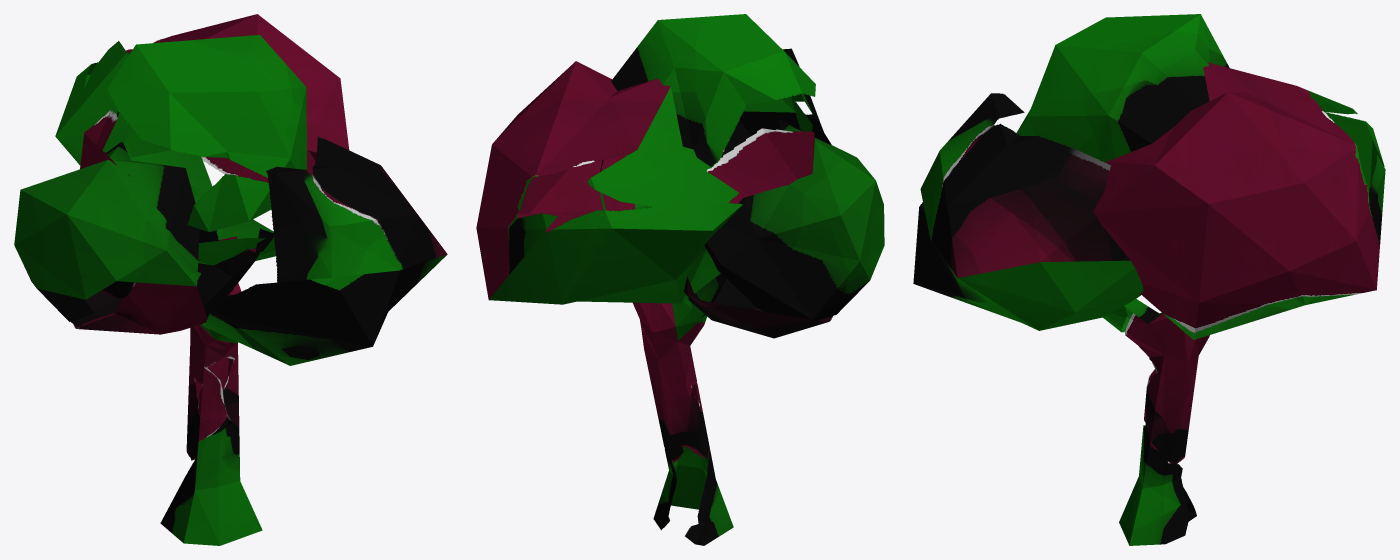
The model's file is Tree.obj.
The picture shows the model from 3 angles, left to right: view 1: azimuth 30°, elevation 25°; view 2: azimuth 150°, elevation 25°; view 3: azimuth 270°, elevation 25°; orthographic projection.
Bounding box in the file's own units: 4.89 × 6.9 × 5.97.
